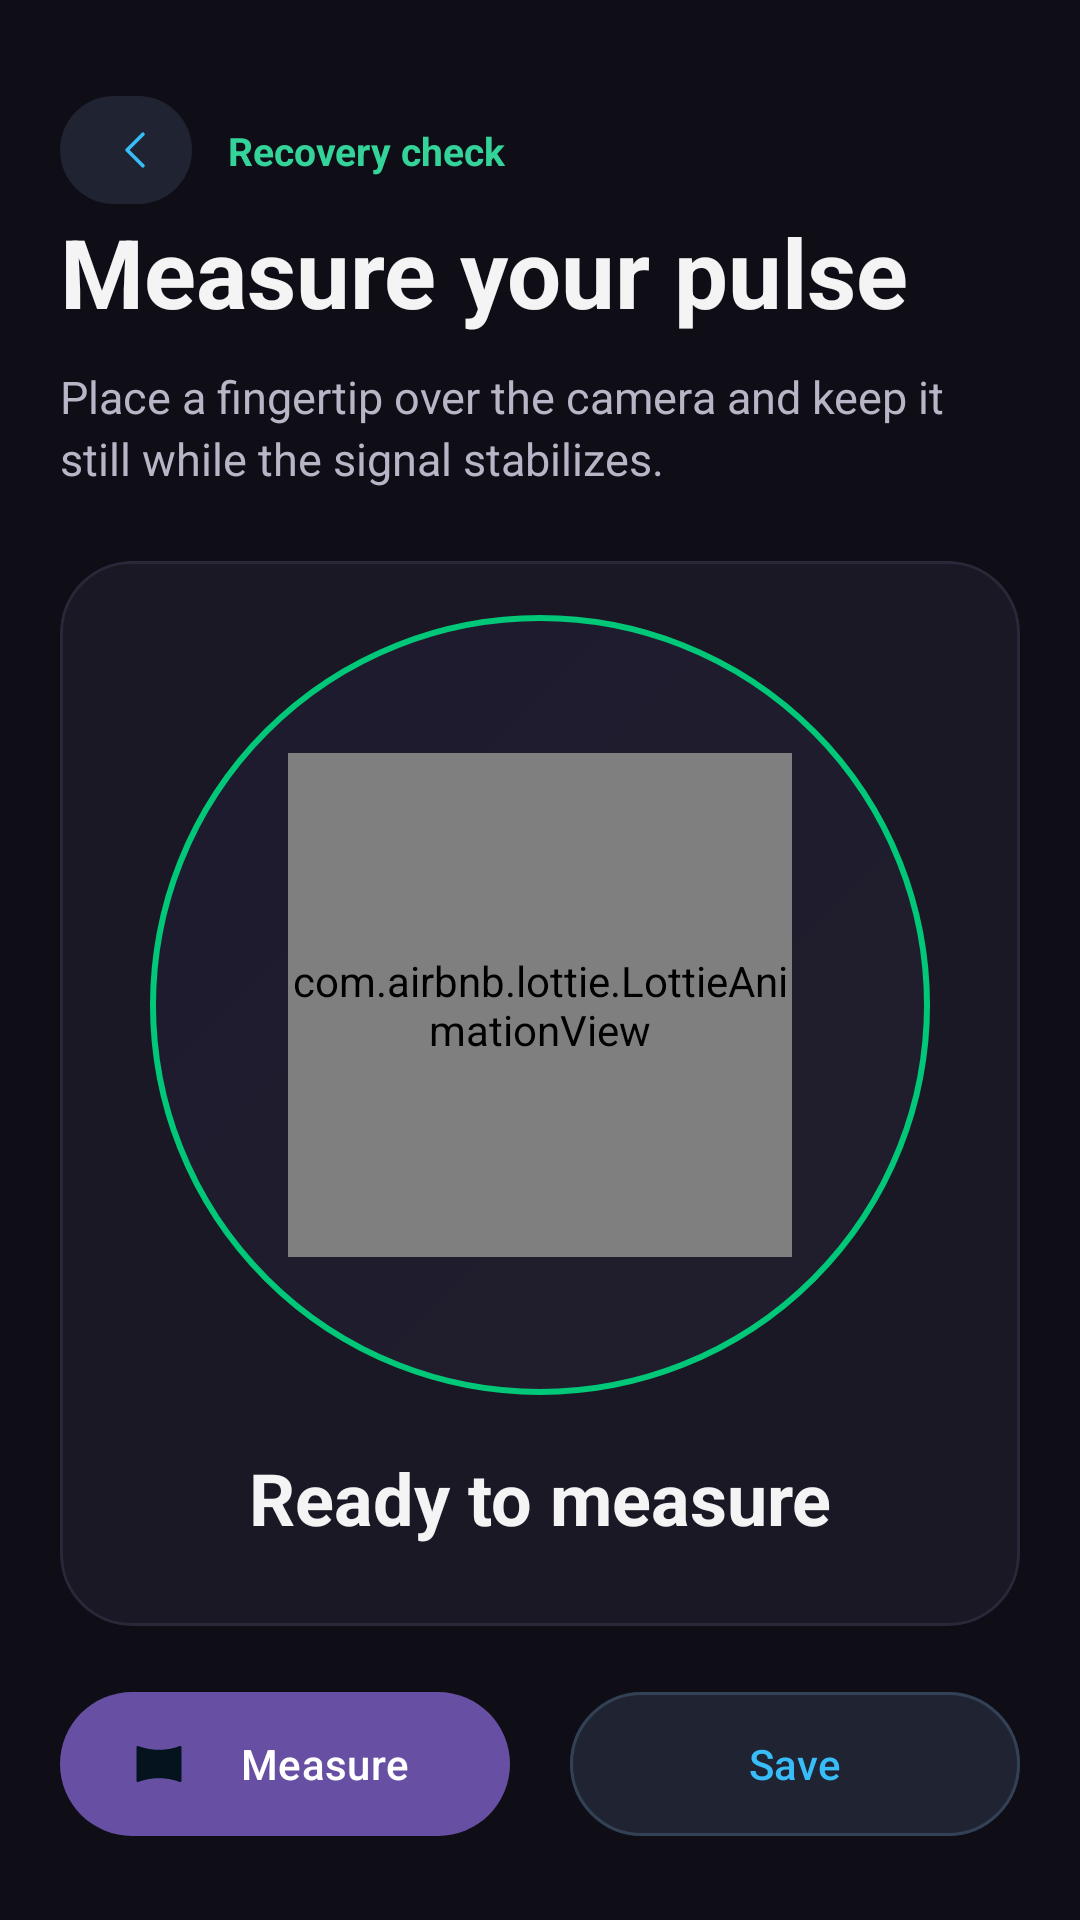

Where icons sit on this 1080*1920 app screen, as (x1, y1, x2, y2):
arrow: (60, 96, 192, 204)
